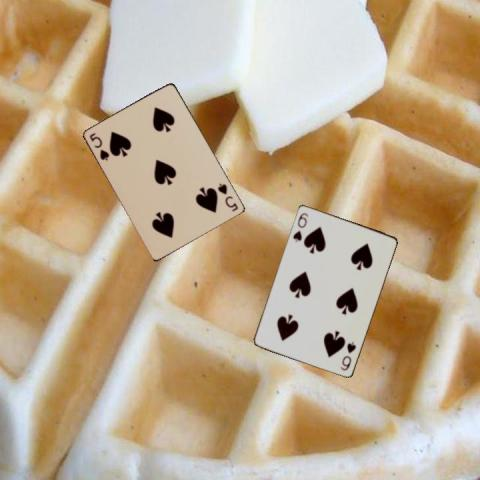5s: (215, 180, 239, 213), (86, 130, 110, 162)
6s: (338, 339, 358, 372), (290, 210, 309, 244)
